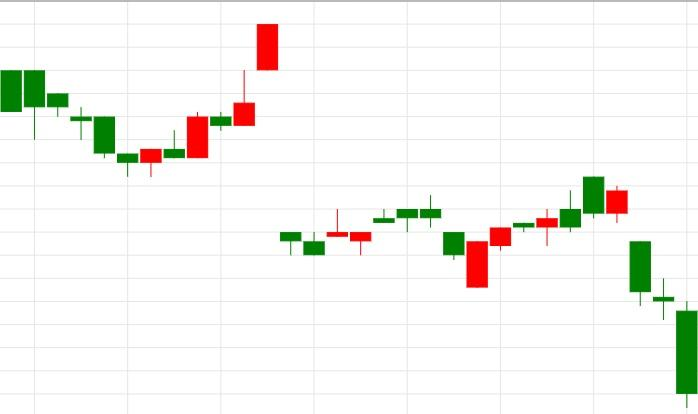bullish_engulfing_rise: (0, 69, 163, 177)
